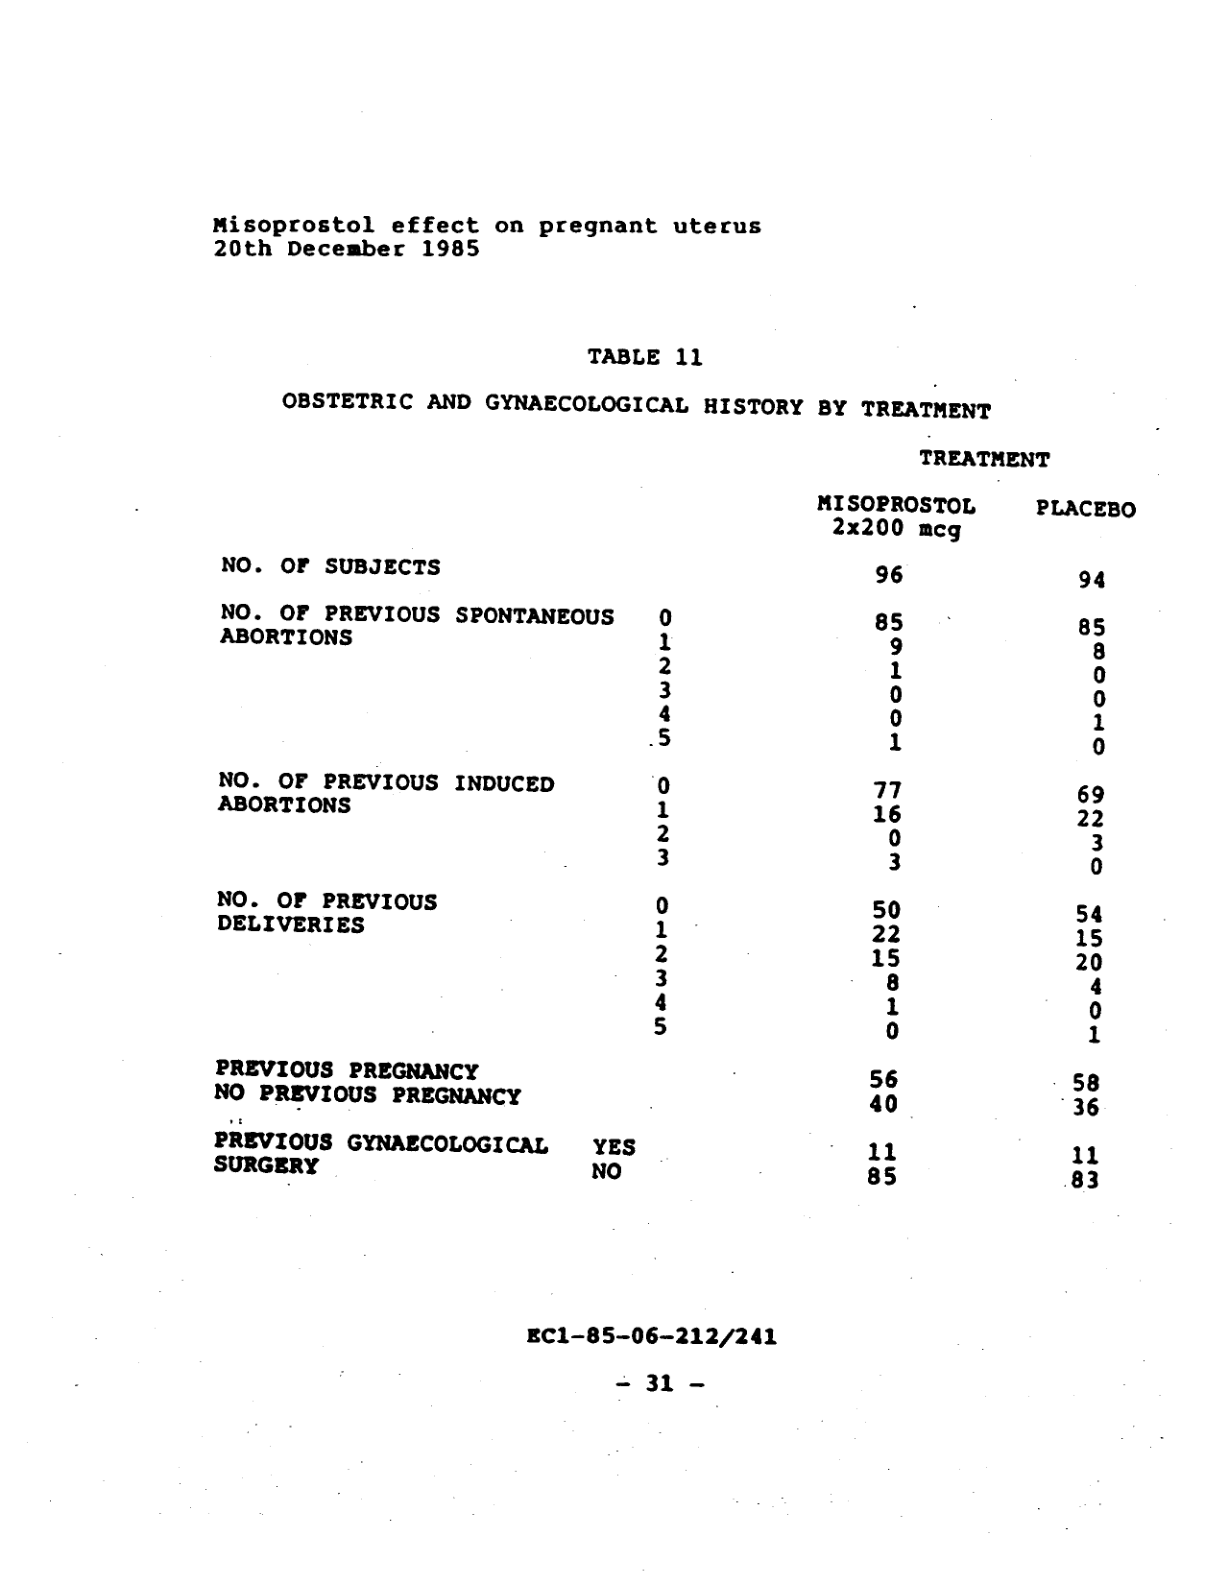nolines: (211, 492, 1138, 1191)
